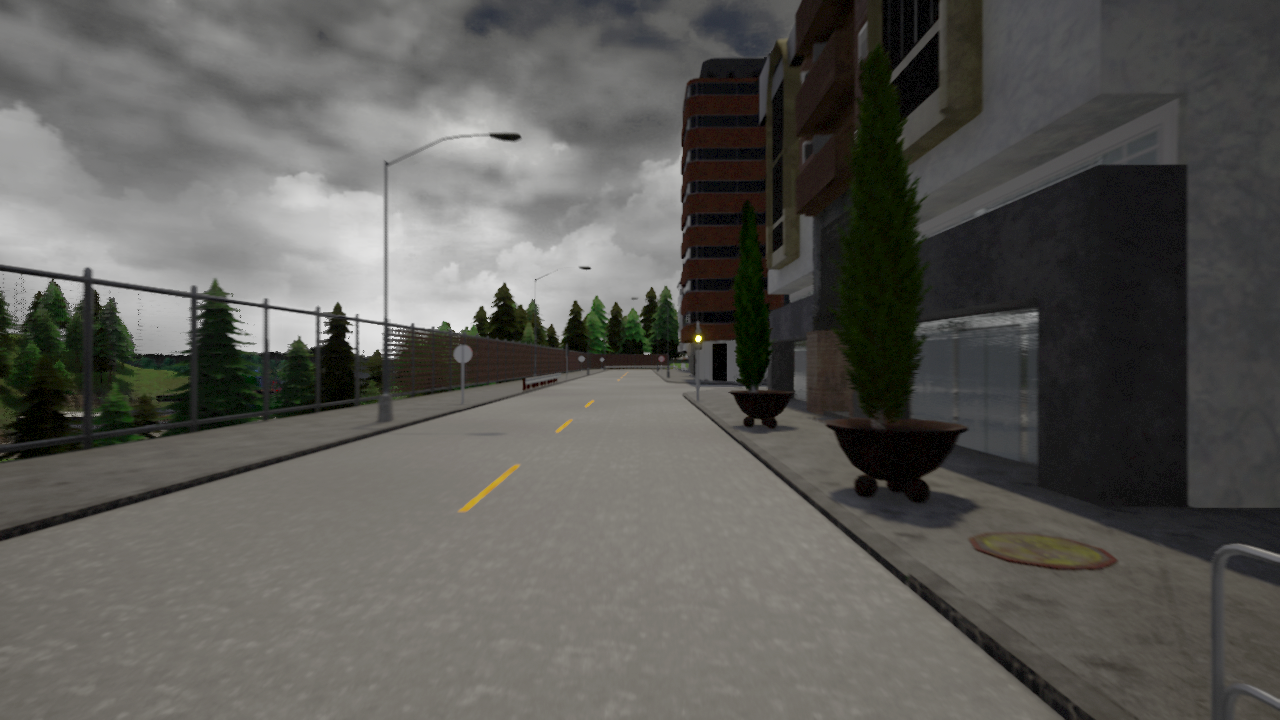yellow: (693, 324, 705, 350)
